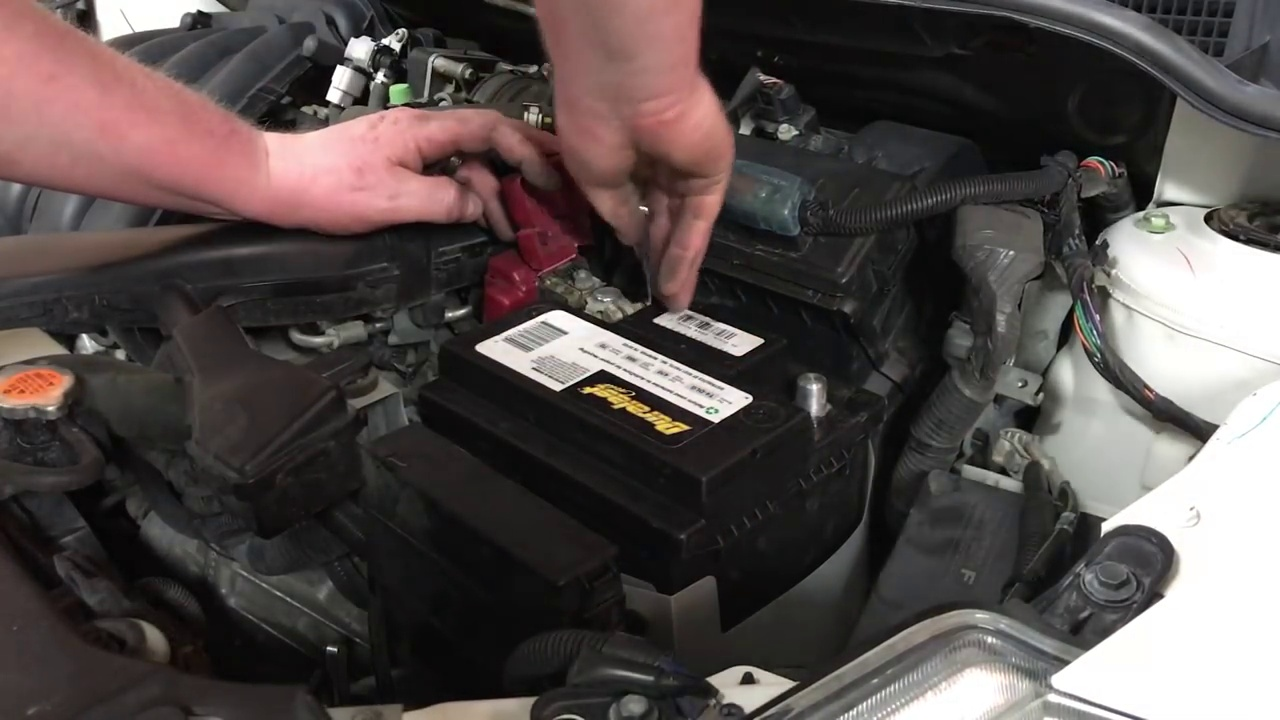battery: (432, 288, 859, 476)
neg_disconnected: (753, 349, 870, 433)
pos_touched: (414, 113, 706, 325)
